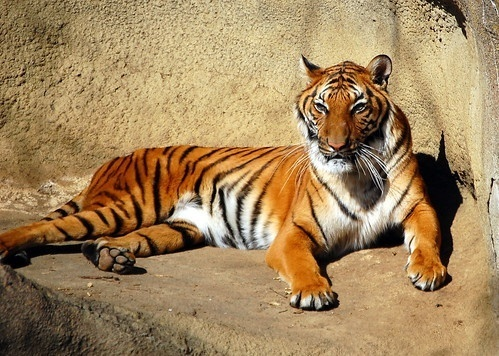tigre: (1, 48, 456, 314)
